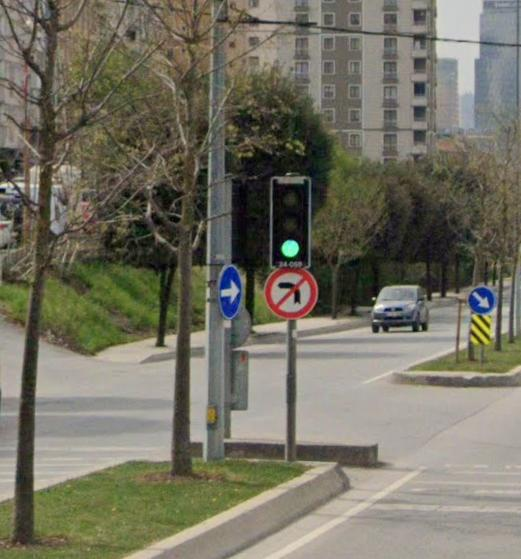greenlight: (272, 176, 307, 259)
leftturnsareforbidden: (266, 265, 317, 319)
turnright: (218, 265, 243, 318)
